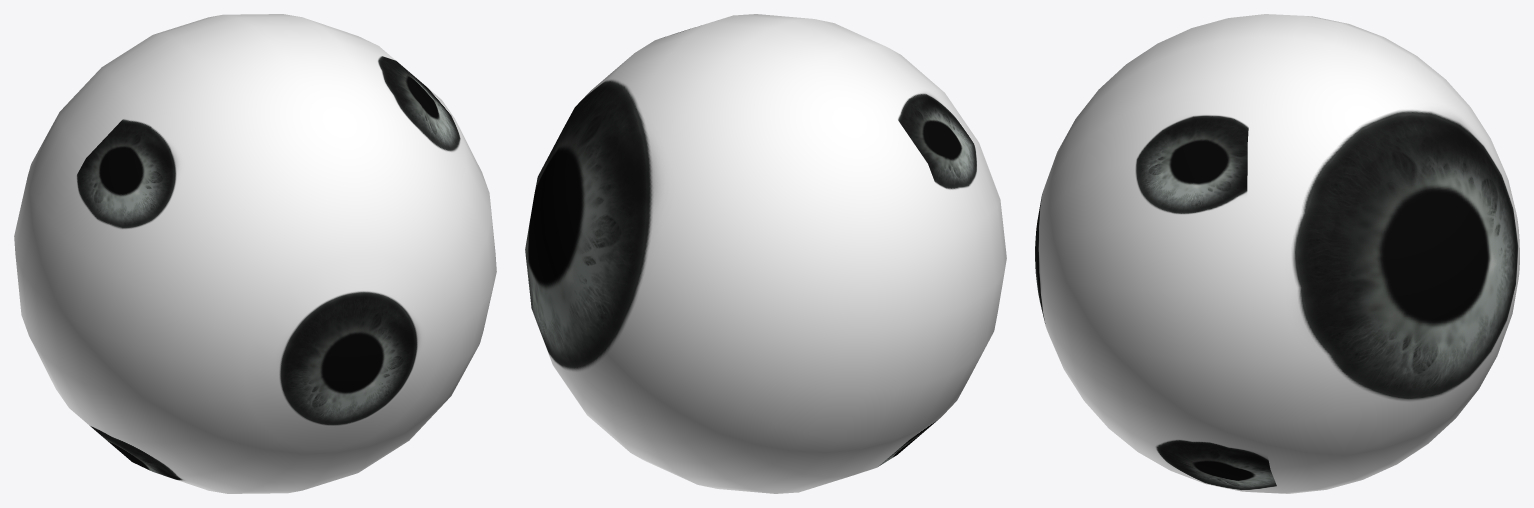
File: Aang_Eyes.fbx
The picture shows the model from 3 angles, left to right: view 1: azimuth 30°, elevation 25°; view 2: azimuth 150°, elevation 25°; view 3: azimuth 270°, elevation 25°; orthographic projection.
Parts seen in each view (by area): view 1: R_eye.001; view 2: R_eye.001; view 3: R_eye.001.
Boxes of the visible parts, left/top/right/bottom form: R_eye.001: left=14, top=14, right=496, bottom=493; R_eye.001: left=525, top=14, right=1006, bottom=493; R_eye.001: left=1035, top=14, right=1519, bottom=493.
Bounding box in the file's own units: 1005 × 1004 × 1006.
1 material, 1 textured.
